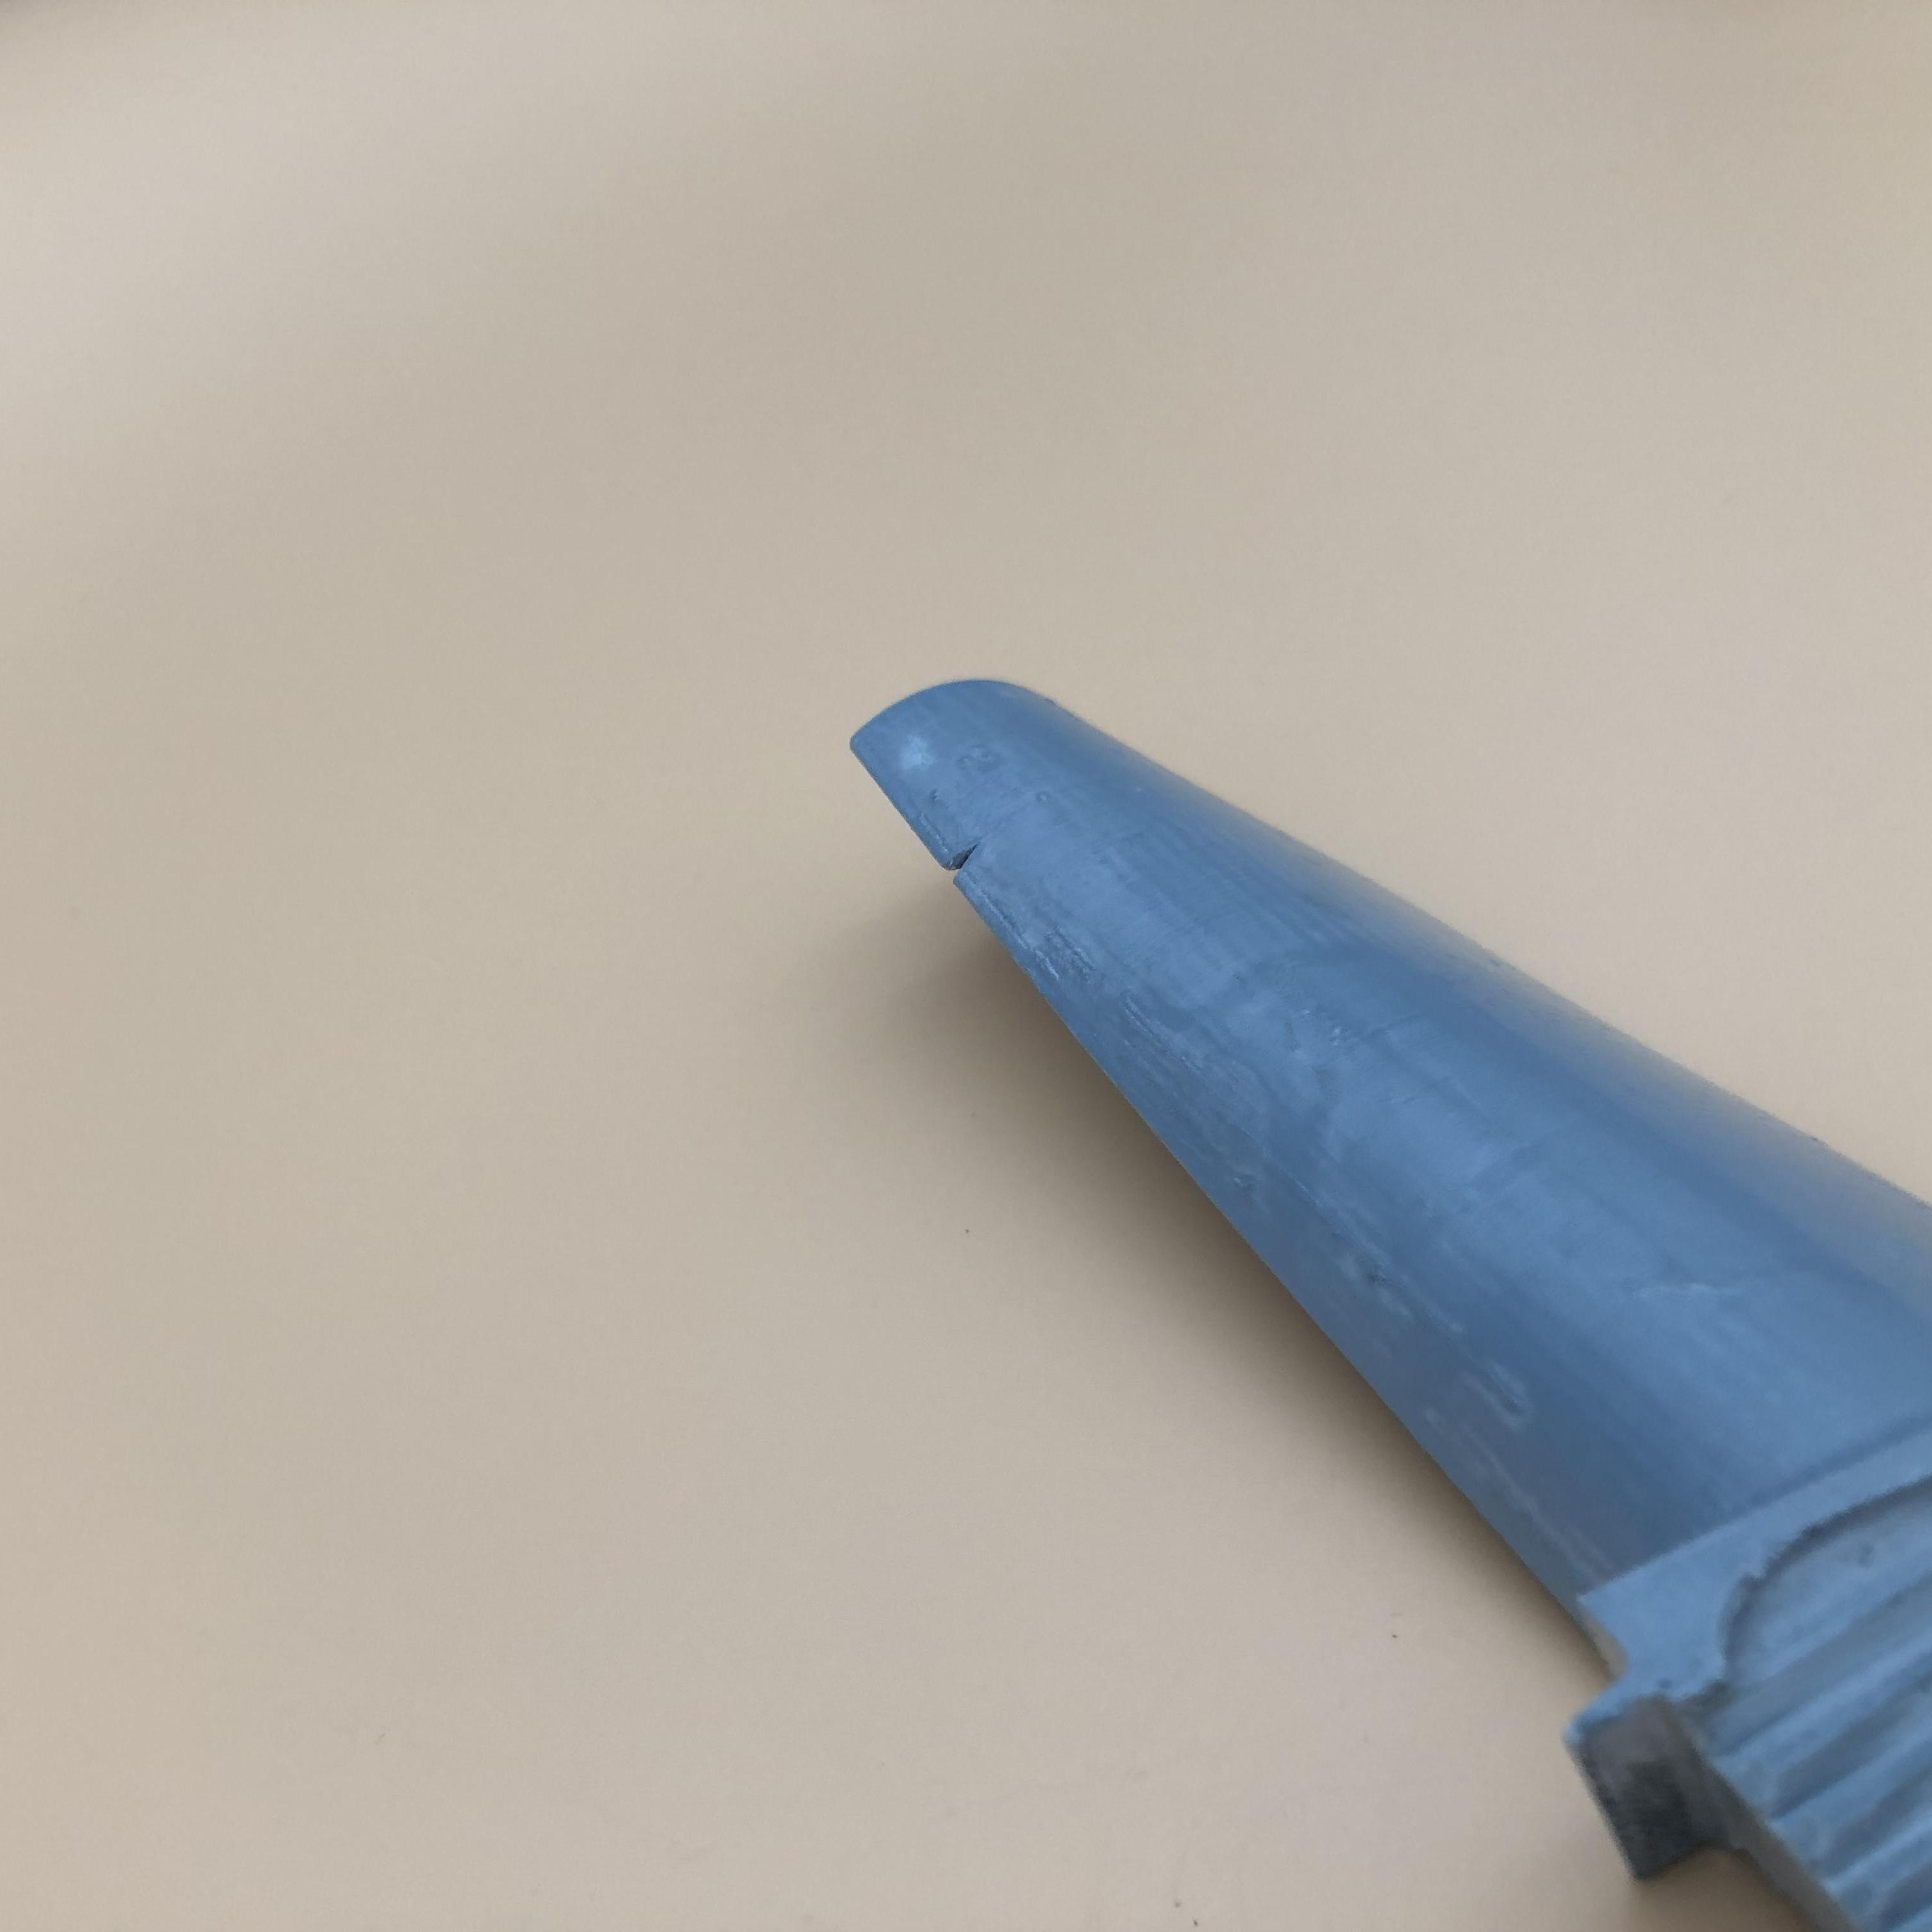groove: (932, 842, 998, 879)
